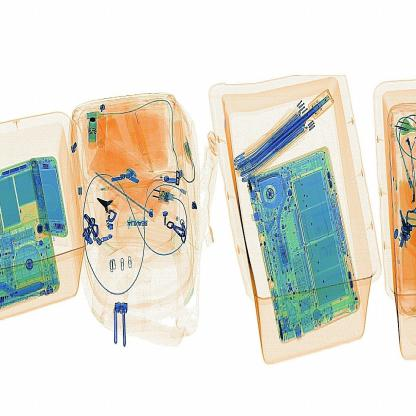gun: (95, 186, 129, 226)
